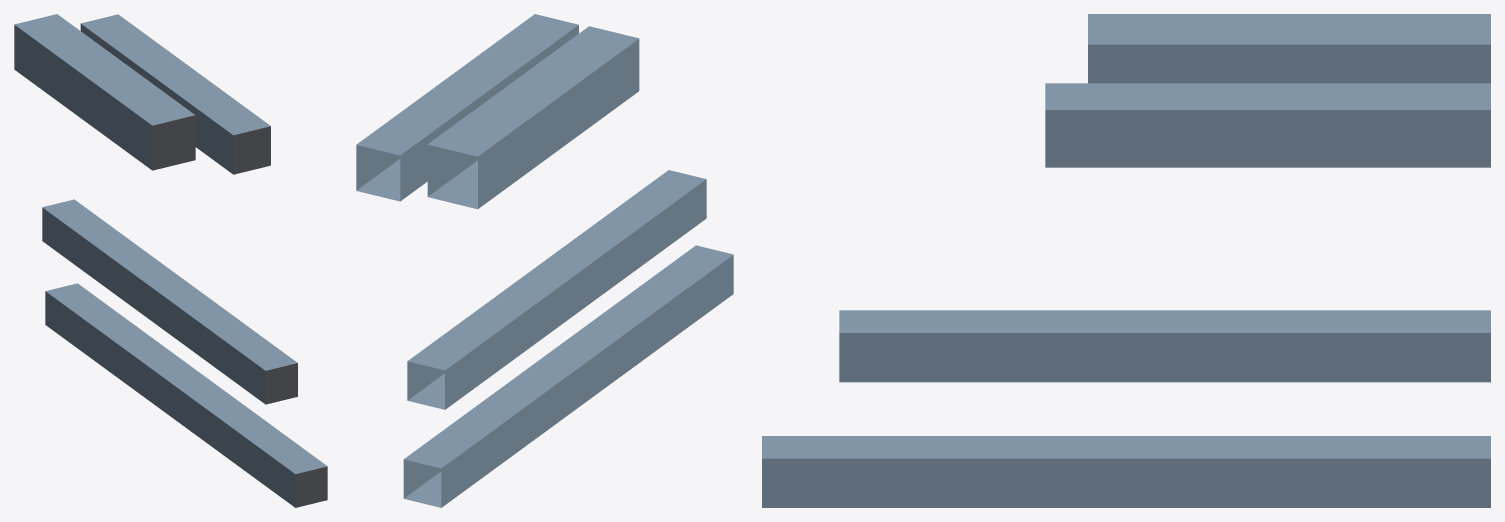
Rendered from island_bldg_02_04.obj.
The picture shows the model from 3 angles, left to right: view 1: azimuth 30°, elevation 25°; view 2: azimuth 150°, elevation 25°; view 3: azimuth 270°, elevation 25°; orthographic projection. The views are drawn at different scales.
Visible parts, largest first — view 1: island_bldg_02_04; view 2: island_bldg_02_04; view 3: island_bldg_02_04.
Part boxes in pixels (x1,y1,x2,y2): island_bldg_02_04: (14, 14, 327, 507); island_bldg_02_04: (356, 14, 733, 507); island_bldg_02_04: (762, 14, 1490, 507).
Bounding box in the file's own units: 77.4 × 219 × 322.
